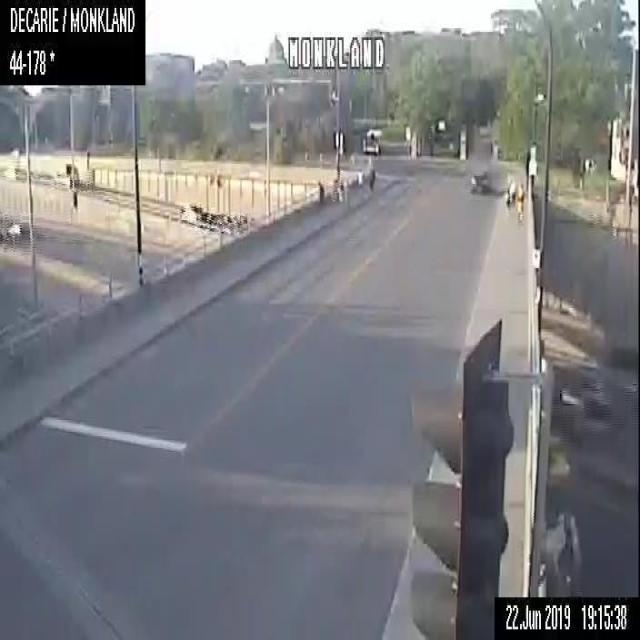bus: (362, 129, 382, 156)
pedestrian: (506, 172, 514, 211), (516, 184, 524, 222), (356, 164, 364, 191), (368, 165, 376, 188), (317, 180, 324, 203)
vehicle: (2, 218, 25, 241), (180, 201, 201, 224), (469, 167, 488, 190)
